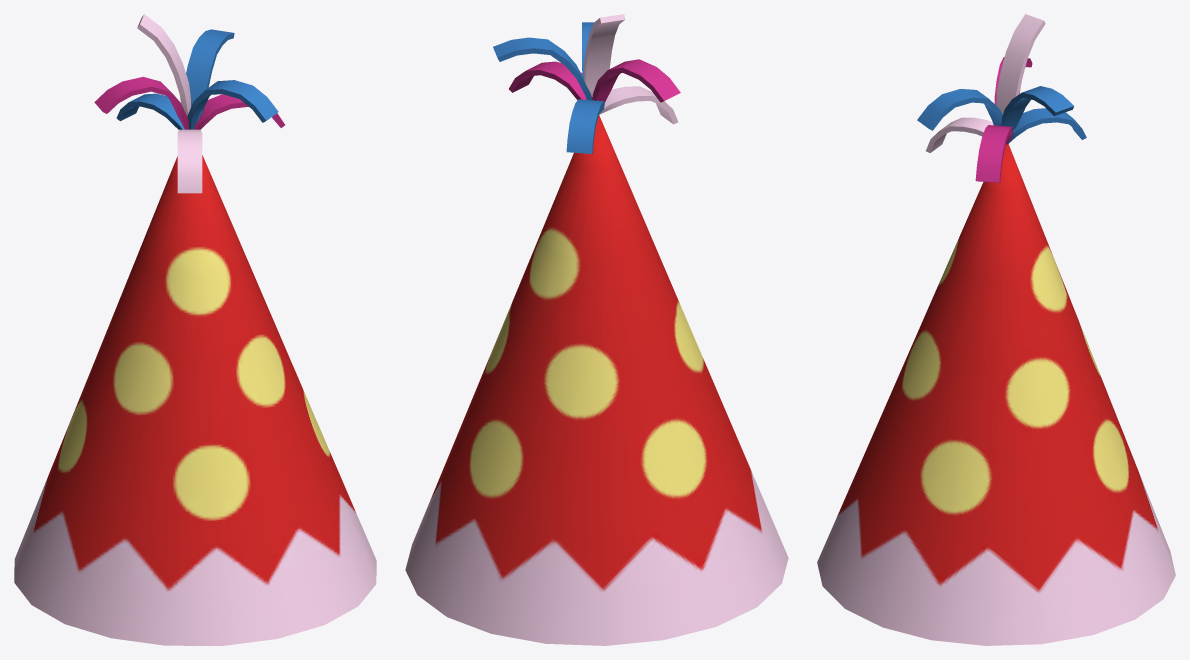
The model's file is hat_pm0025_00_pikachu_pokemonday2020.fbx.
3 renders of one model, left to right at view 1: azimuth 30°, elevation 25°; view 2: azimuth 150°, elevation 25°; view 3: azimuth 270°, elevation 25°, orthographic. The views are drawn at different scales.
Parts seen in each view (by area): view 1: hat_pm0025_00_pikachu_pokemonday2020; view 2: hat_pm0025_00_pikachu_pokemonday2020; view 3: hat_pm0025_00_pikachu_pokemonday2020.
Boxes of the visible parts, x1=… form: hat_pm0025_00_pikachu_pokemonday2020: x1=14, y1=14, x2=376, y2=645; hat_pm0025_00_pikachu_pokemonday2020: x1=405, y1=14, x2=788, y2=645; hat_pm0025_00_pikachu_pokemonday2020: x1=817, y1=14, x2=1175, y2=645.
Bounding box in the file's own units: 0.1133 × 0.1875 × 0.1133.
